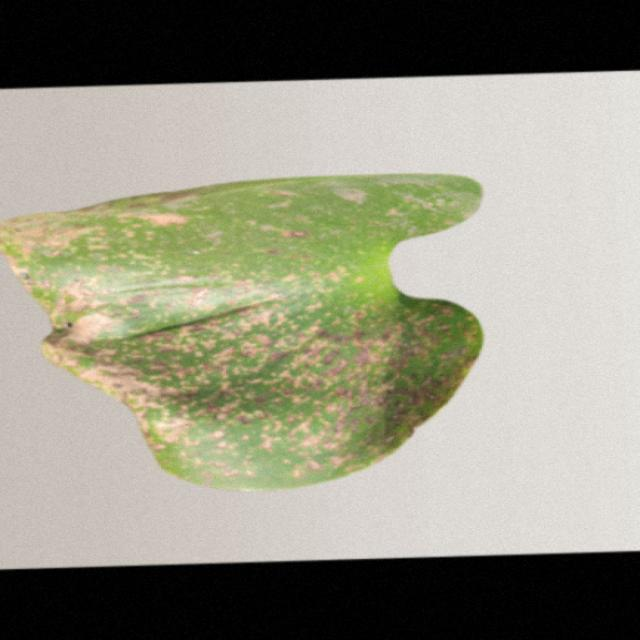daun berpenyakit bercak: (3, 174, 481, 491)
